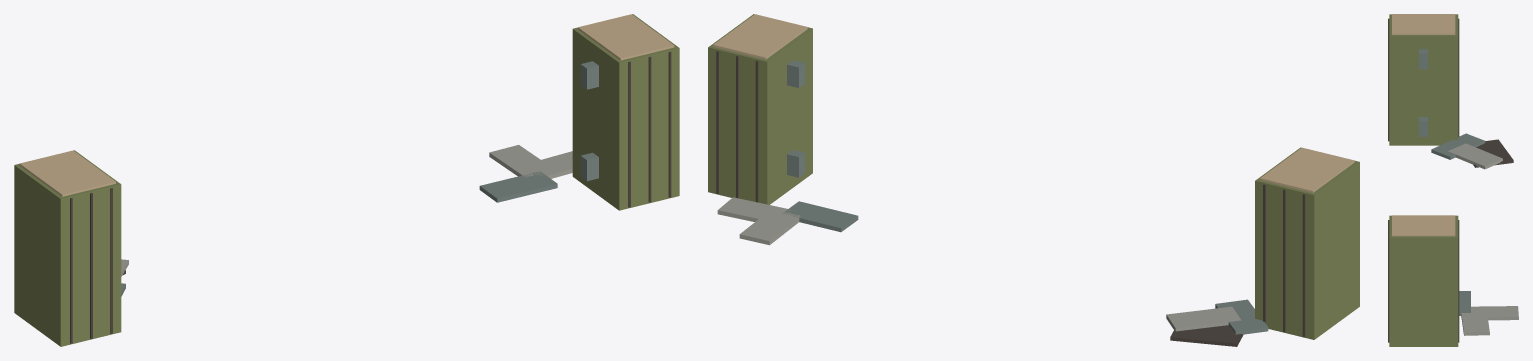
File: SM_PuertaViaDoble_v0_TuboChapa_e3_Brecha_LOD0.fbx
The picture shows the model from 3 angles, left to right: view 1: azimuth 30°, elevation 25°; view 2: azimuth 150°, elevation 25°; view 3: azimuth 270°, elevation 25°; orthographic projection. The views are drawn at different scales.
Parts seen in each view (by area): view 1: SM_puerta_via_doble_v3_LOD0, Hoja_E; view 2: SM_puerta_via_doble_v3_LOD0, Hoja_E; view 3: SM_puerta_via_doble_v3_LOD0, Hoja_O.
Boxes of the visible parts, box(x1,y1,x2,y2) form: SM_puerta_via_doble_v3_LOD0: box(14, 14, 679, 346); Hoja_E: box(580, 61, 598, 181); SM_puerta_via_doble_v3_LOD0: box(708, 14, 1359, 346); Hoja_E: box(787, 60, 804, 177); SM_puerta_via_doble_v3_LOD0: box(1388, 14, 1518, 346); Hoja_O: box(1419, 49, 1428, 136).
Size of the model in its own units: 9.2 by 2.13 by 2.28.
